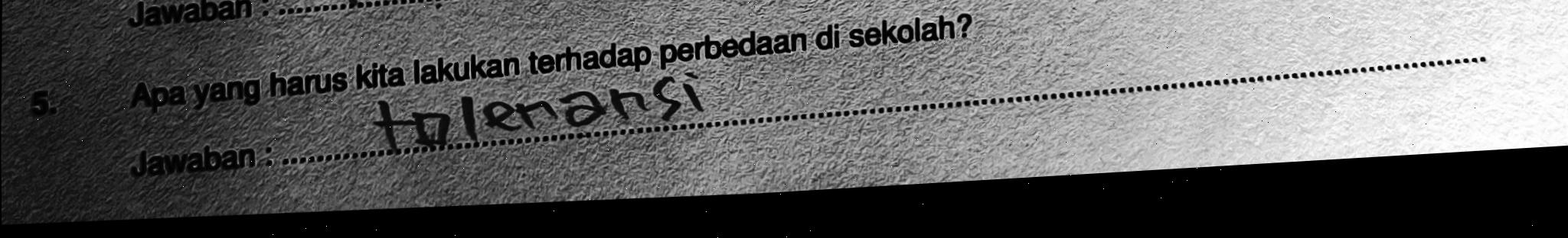jawaban: (369, 66, 705, 149)
